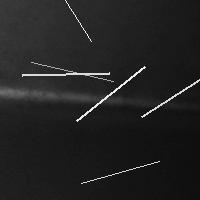scratches: (72, 61, 150, 125), (1, 84, 172, 109), (136, 75, 200, 122), (34, 0, 96, 46), (76, 156, 164, 188), (26, 57, 118, 86), (17, 68, 114, 80)
